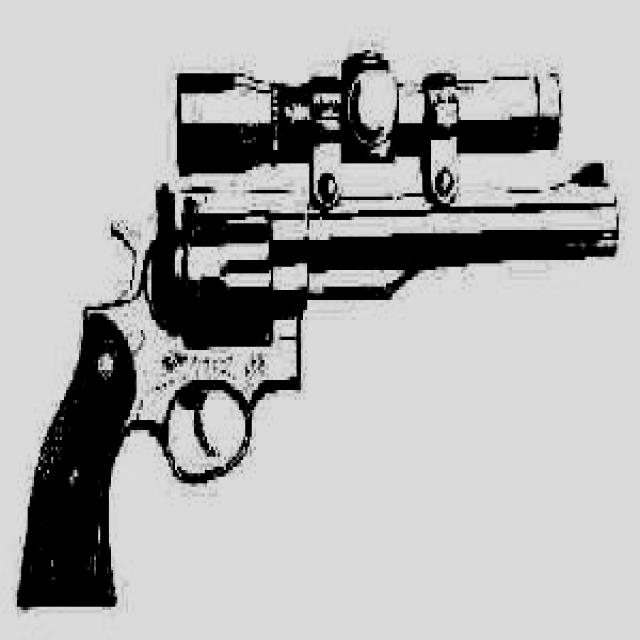pistol: (9, 147, 616, 603)
